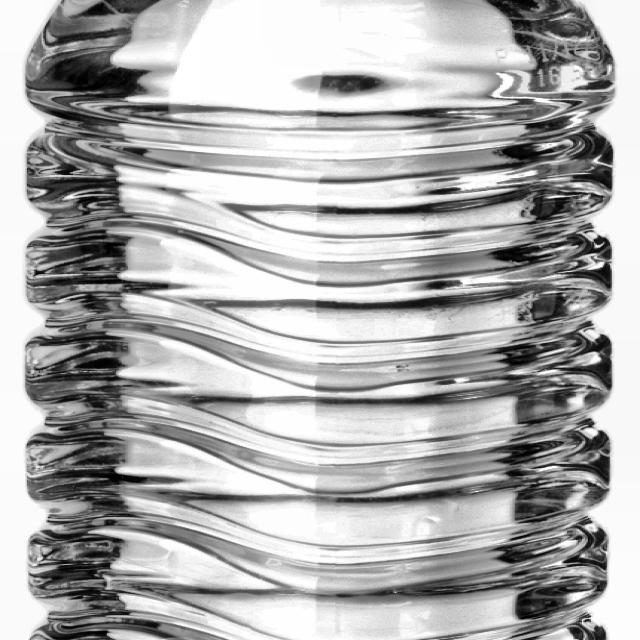bottle: (21, 0, 618, 640)
